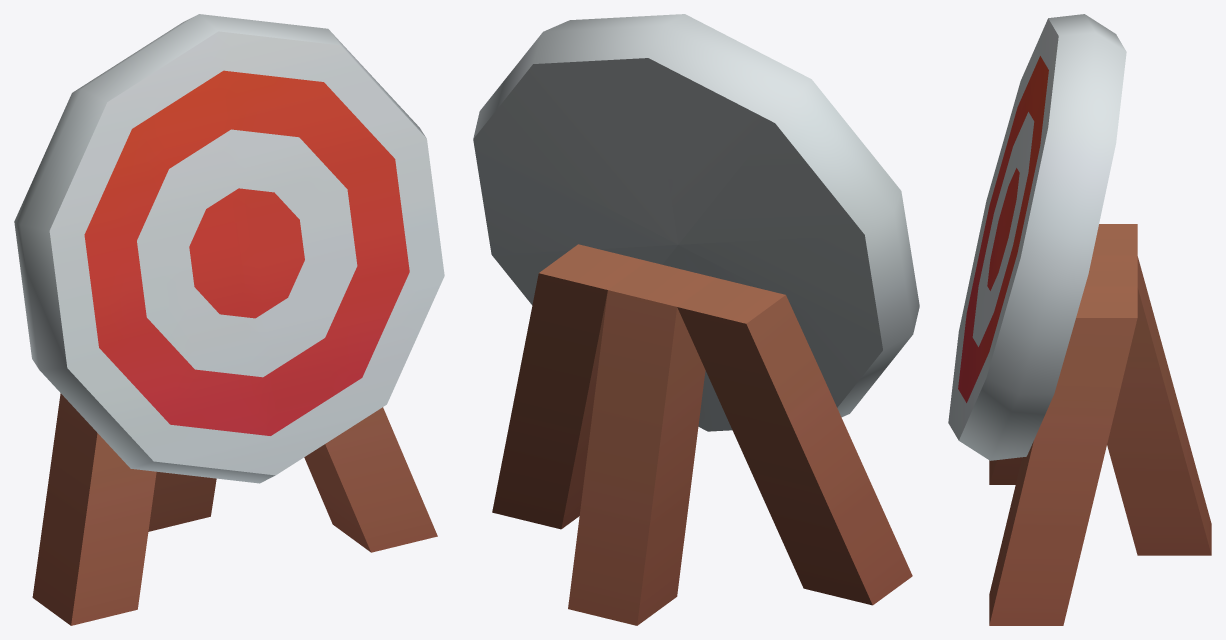
The model's file is kay-alvo.gltf.
3 views of the same model, side by side, from view 1: azimuth 30°, elevation 25°; view 2: azimuth 150°, elevation 25°; view 3: azimuth 270°, elevation 25° (orthographic). The views are drawn at different scales.
Visible parts, largest first — view 1: target; view 2: target; view 3: target.
Part boxes in pixels (x1,y1,x2,y2): target: (14,14,444,625); target: (473,14,919,625); target: (948,14,1211,625).
Size of the model in its own units: 1.2 by 1.51 by 0.7105.
Materials: 1 (1 with a texture image).
